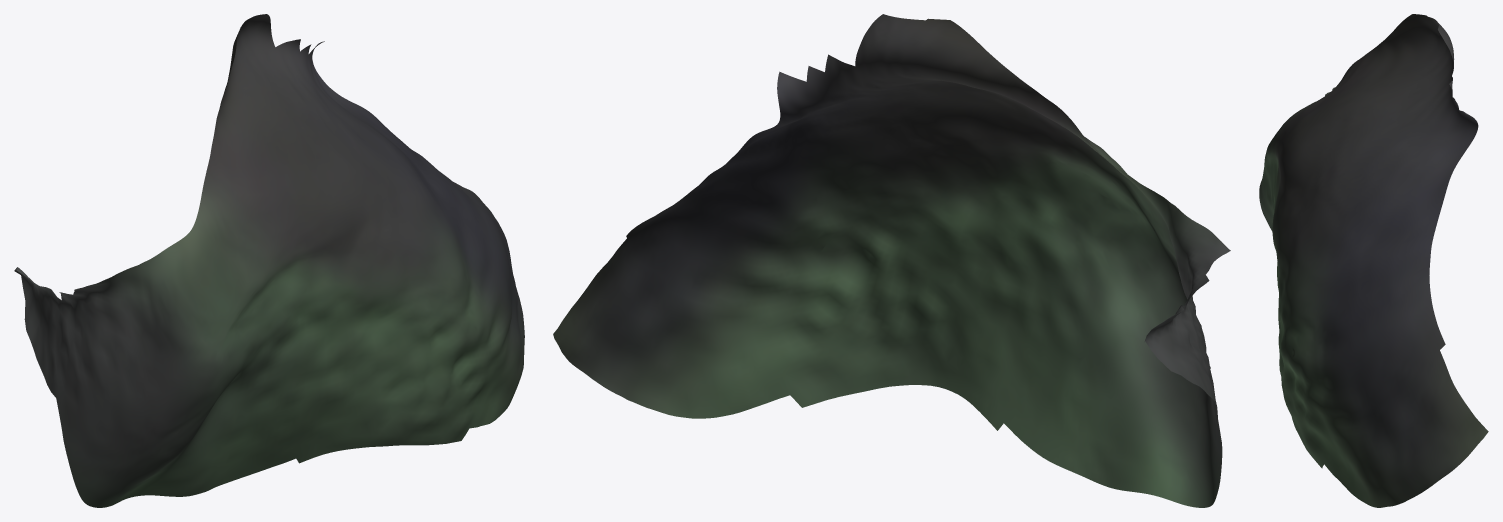
The model's file is Cloud_global_new_8.glb.
3 views of the same model, side by side, from view 1: azimuth 30°, elevation 25°; view 2: azimuth 150°, elevation 25°; view 3: azimuth 270°, elevation 25° (orthographic). The views are drawn at different scales.
Visible parts, largest first — view 1: LOD0; view 2: LOD0; view 3: LOD0.
Part boxes in pixels (bbox=[...]): LOD0: bbox=[14, 14, 524, 507]; LOD0: bbox=[553, 14, 1230, 507]; LOD0: bbox=[1259, 14, 1488, 507].
Size of what is drawn, in the model's own units: 1.38 by 1.09 by 0.584.
